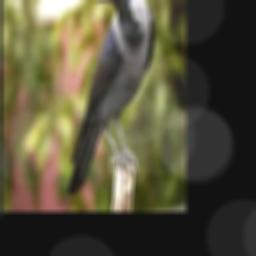Crow: (68, 0, 154, 195)
